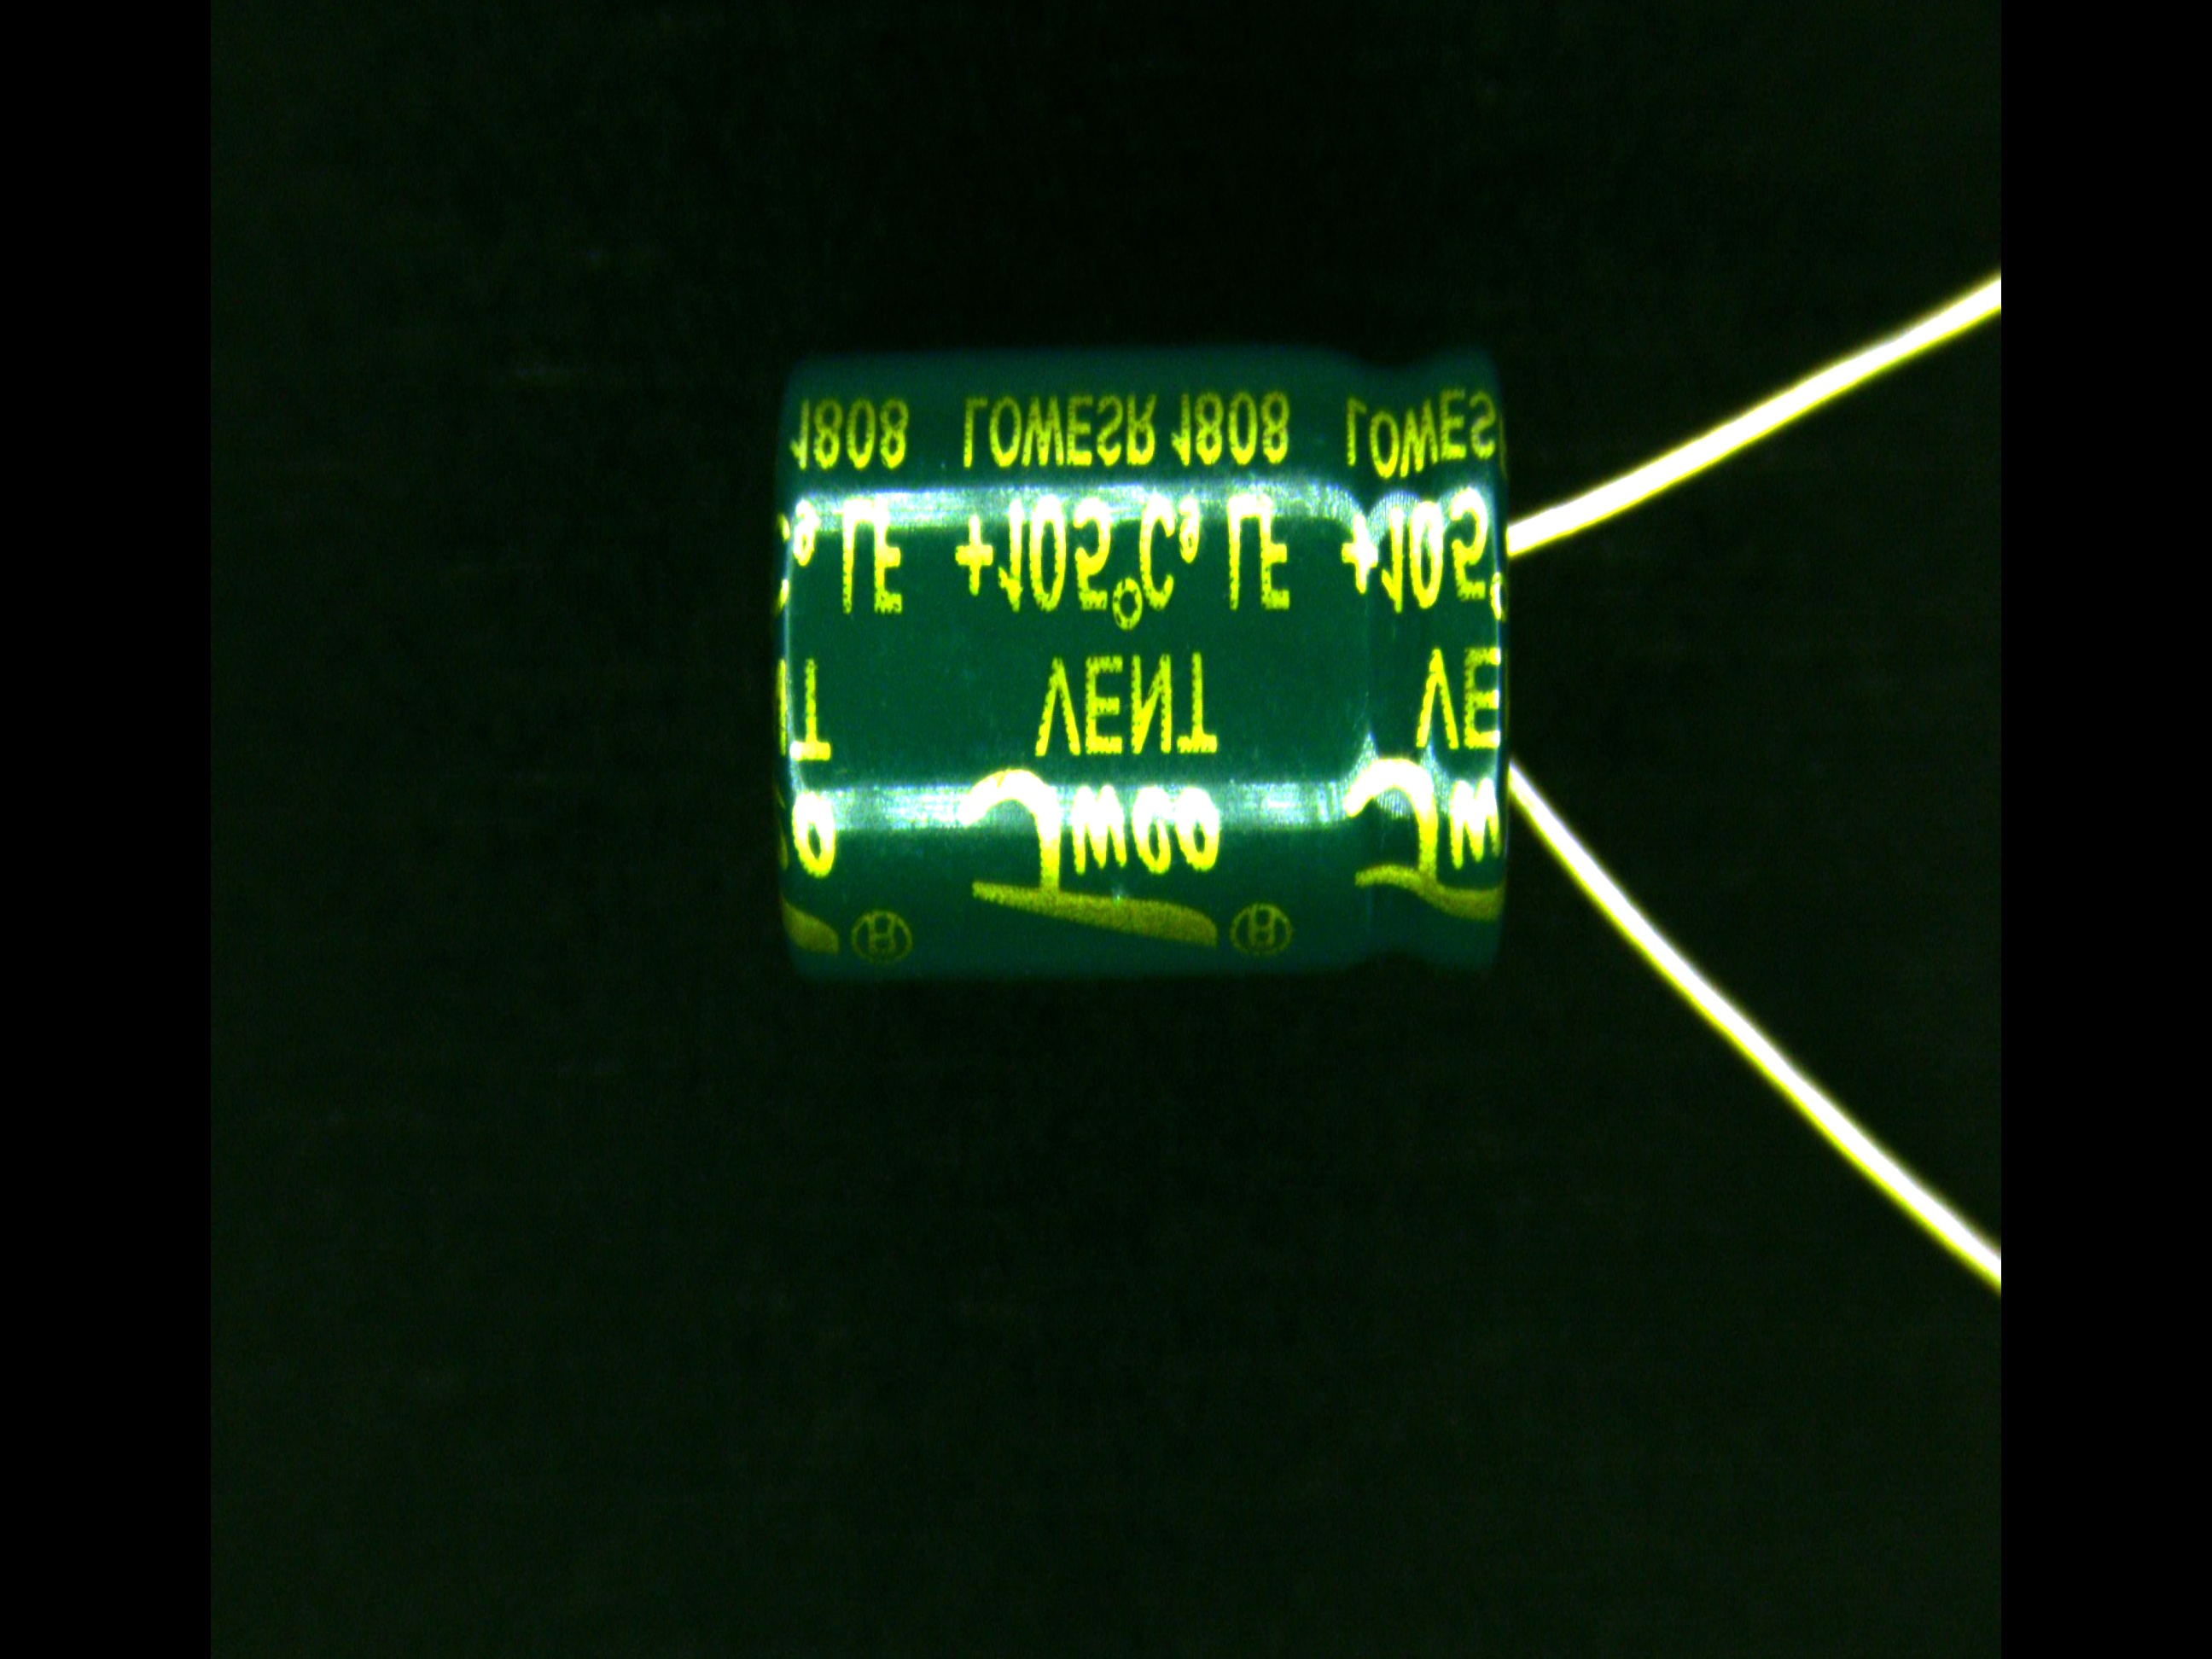c1: (773, 324, 1660, 986)
